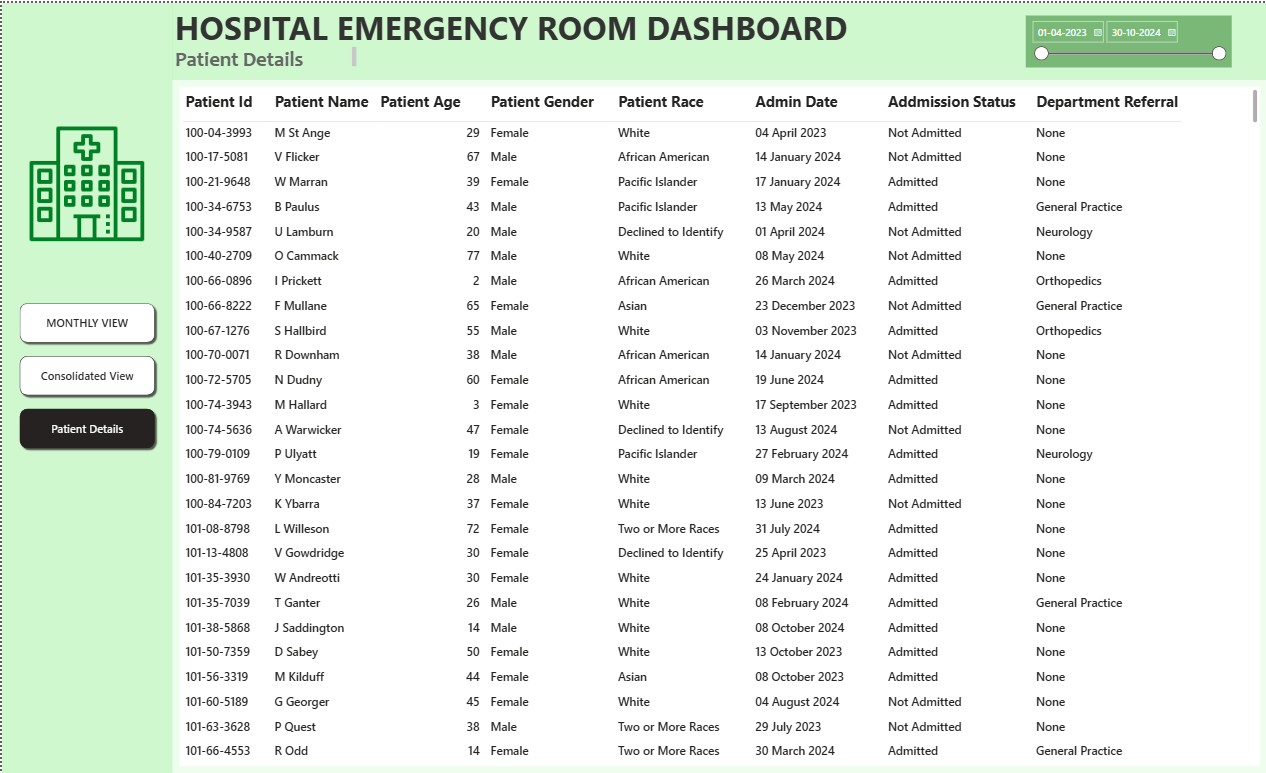

The page's visual inventory and layout, read from the dashboard file:
{"tool":"powerbi","page":{"name":"Patient Details","canvas":[2300,1400],"ordinal":2},"visuals":[{"type":"shape","box":[310,0,1990,140],"z":0},{"type":"shape","box":[0,0,310,1400],"z":1000},{"type":"textbox","box":[309.5,0,1252.4,104.8],"z":2000},{"type":"textbox","box":[310,75,340,50],"z":3000},{"type":"slicer","fields":{"Values":["Date_table.Date"]},"box":[1861.2,23.8,372.5,92.5],"z":4000},{"type":"tableEx","fields":{"Values":["Hospital ER_Data.Patient Id","Hospital ER_Data.Patient Full Name","Sum(Hospital ER_Data.Patient Age)","Hospital ER_Data.Patient Gender","Hospital ER_Data.Patient Race","Hospital ER_Data.Admin Date","Hospital ER_Data.Addmission Status","Hospital ER_Data.Department Referral"]},"box":[323.3,153.3,1965,1235],"z":5000},{"type":"pageNavigator","box":[26,538,260,278],"z":6000},{"type":"image","box":[42.5,212.5,222.5,230],"z":7000}]}

Visuals, with their boxes in screenshot pixels (x1, y1, x2, y2), scaled from the page's 2300x1400 canvas onto the 1266x773 screenshot:
shape: select_region(171, 0, 1265, 77)
shape: select_region(0, 0, 171, 772)
textbox: select_region(170, 0, 860, 58)
textbox: select_region(171, 41, 358, 69)
slicer - Date_table.Date: select_region(1024, 13, 1230, 64)
tableEx - Hospital ER_Data.Patient Id x Hospital ER_Data.Patient Full Name: select_region(178, 85, 1260, 767)
pageNavigator: select_region(14, 297, 157, 451)
image: select_region(23, 117, 146, 244)
